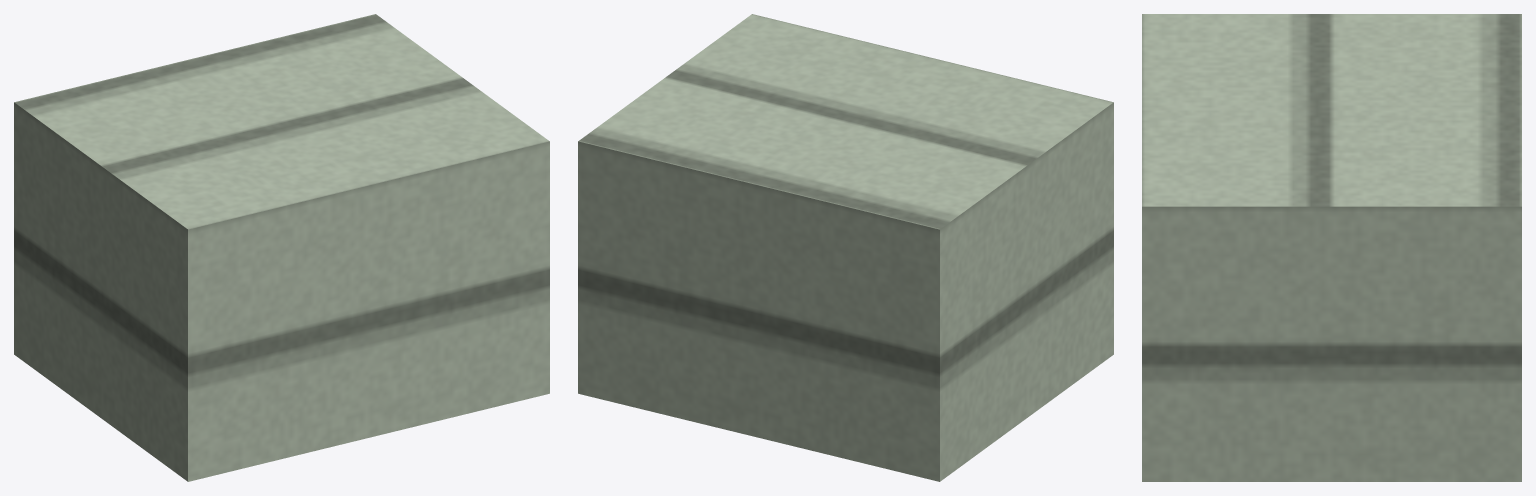
File: adding_machine_typewriter.glb
3 renders of one model, left to right at view 1: azimuth 30°, elevation 25°; view 2: azimuth 150°, elevation 25°; view 3: azimuth 270°, elevation 25°, orthographic. The views are drawn at different scales.
Visible parts, largest first — view 1: adding_machine_typewriter-col; view 2: adding_machine_typewriter-col; view 3: adding_machine_typewriter-col.
Boxes of the visible parts, x1,y1,x2,y2 form: adding_machine_typewriter-col: [14, 14, 549, 481]; adding_machine_typewriter-col: [578, 14, 1113, 481]; adding_machine_typewriter-col: [1142, 14, 1521, 481].
Size of the model in its own units: 0.3 by 0.2 by 0.25.
1 material, 1 textured.
